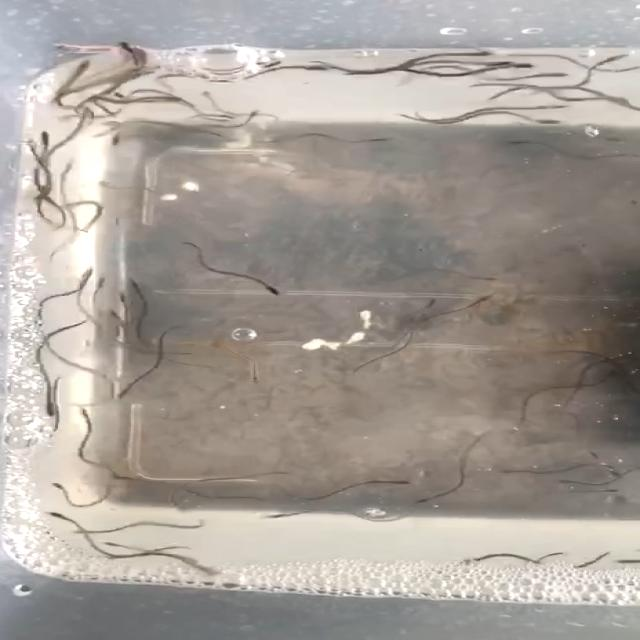inactive_glass_eel: (98, 538, 146, 556), (116, 376, 144, 402), (592, 49, 640, 64), (116, 42, 148, 64), (499, 60, 548, 74), (244, 59, 284, 76), (586, 130, 628, 146), (74, 262, 104, 284), (128, 274, 158, 296), (264, 506, 310, 520), (36, 506, 76, 522), (104, 378, 128, 404), (453, 48, 504, 60), (460, 58, 520, 68), (285, 62, 335, 74), (38, 399, 64, 422), (418, 492, 453, 509), (50, 42, 99, 54), (497, 136, 539, 150), (374, 476, 416, 490), (254, 279, 286, 297), (472, 290, 504, 308), (42, 478, 74, 496), (501, 465, 542, 479), (103, 310, 131, 330), (556, 475, 596, 489), (36, 127, 58, 152), (107, 125, 132, 146), (66, 405, 95, 423), (346, 135, 398, 145), (72, 60, 100, 78), (526, 98, 568, 110), (465, 271, 505, 283), (589, 484, 623, 498), (112, 289, 134, 310), (532, 72, 578, 82), (194, 90, 222, 106), (236, 110, 266, 124), (75, 526, 109, 538), (419, 294, 439, 314), (248, 367, 264, 387), (530, 115, 567, 123), (98, 273, 116, 289), (449, 560, 483, 568)
